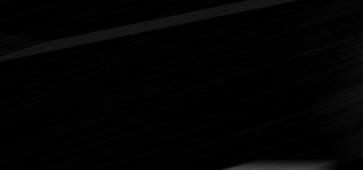Airbag: (0, 0, 363, 170), (341, 3, 363, 170)
